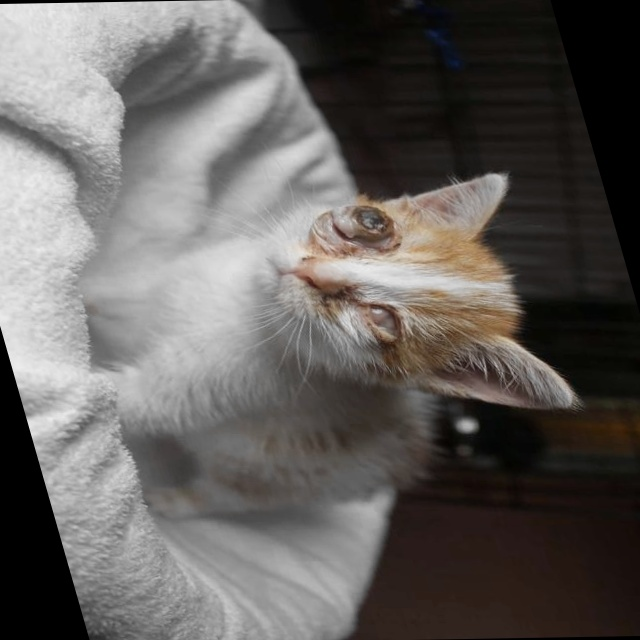eye_infection: (336, 206, 394, 252), (356, 304, 407, 344)
